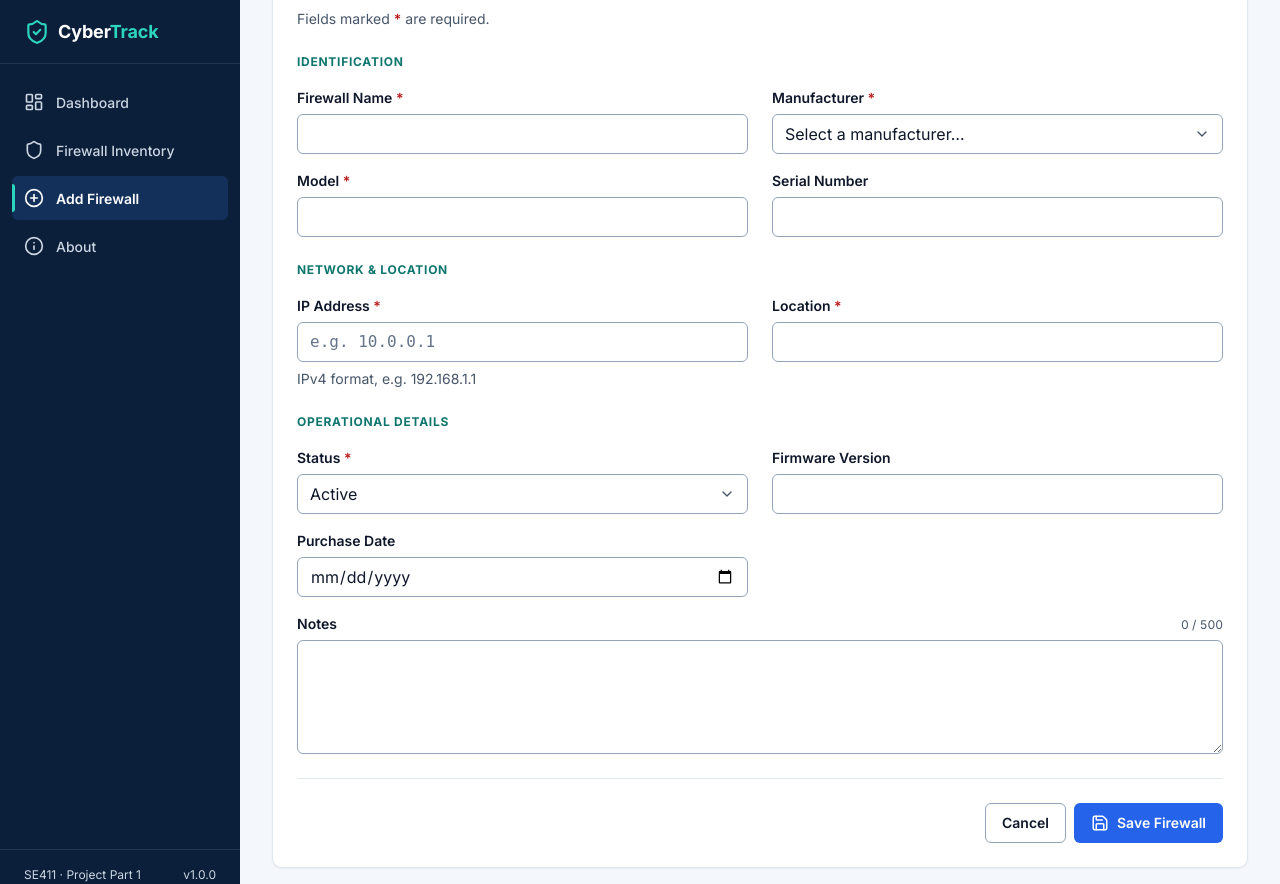
Test: Add Firewall › clears an error as soon as the field is corrected
(page scrolled)
Click the button "Save Firewall" at coordinates (1148, 823), box x1=1074 y1=803 x2=1223 y2=843
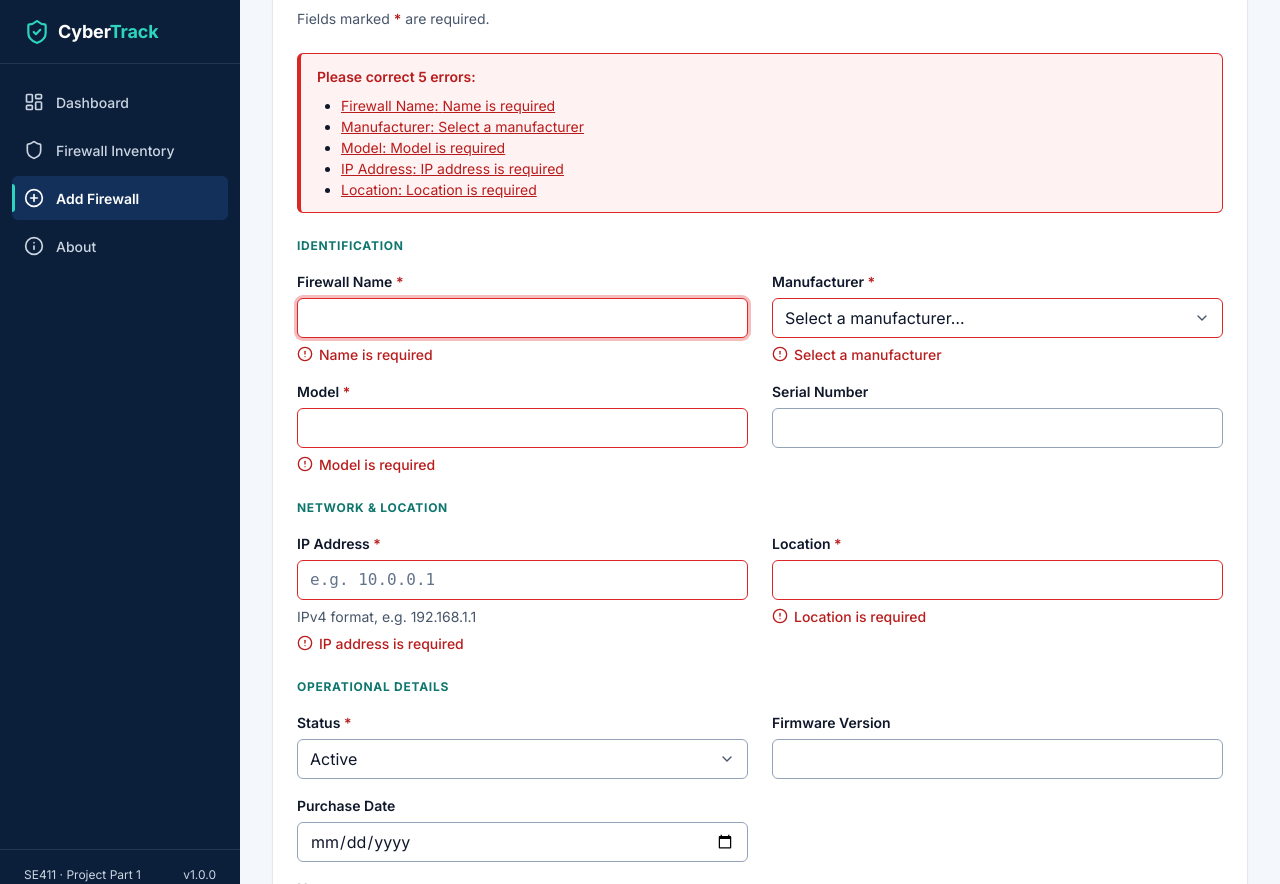
Expected: the text "Name is required" is shown, x1=297 y1=346 x2=433 y2=363
Type "FIXED-FW" into the field labelled "Firewall Name *" at coordinates (522, 318), box x1=297 y1=298 x2=748 y2=338
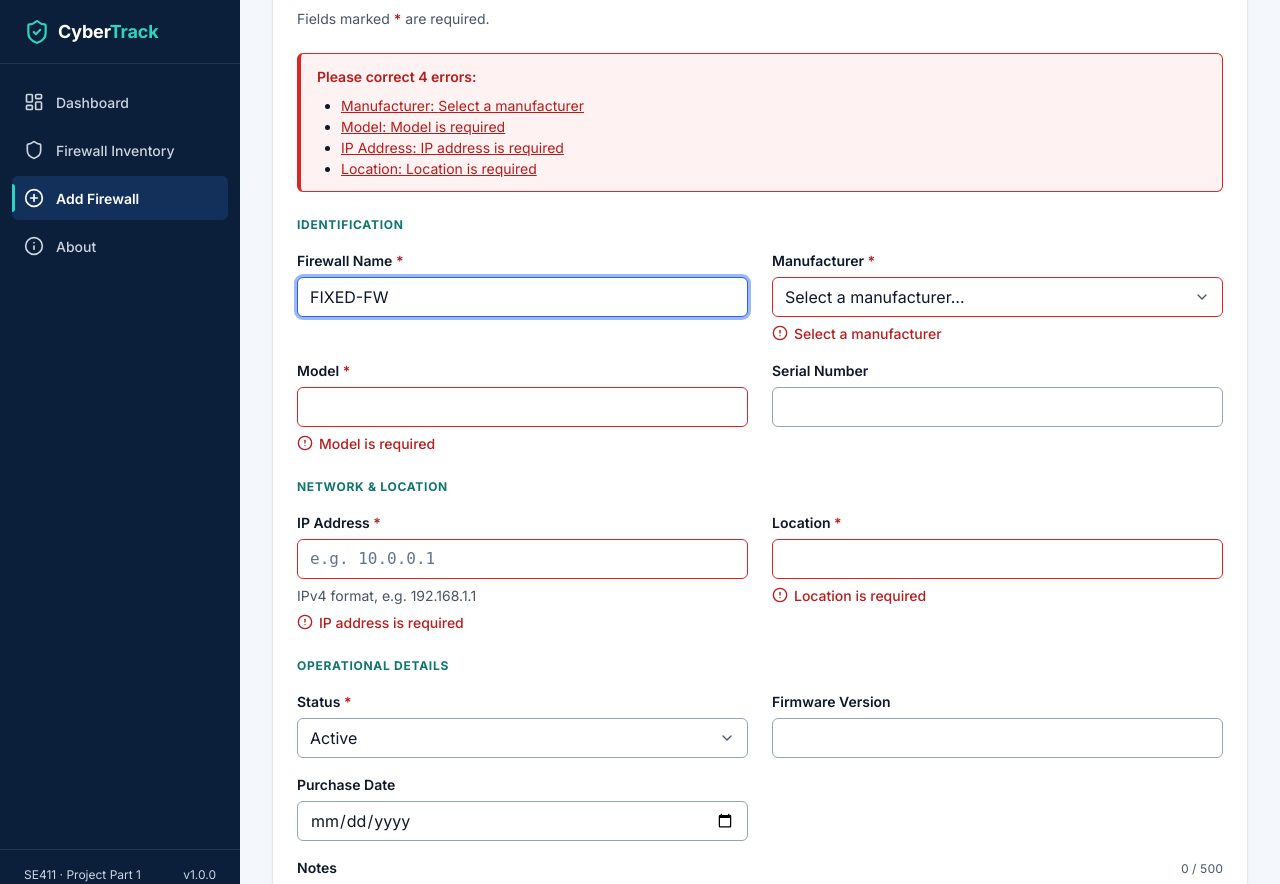
Expected: the link "Name is required" is gone
